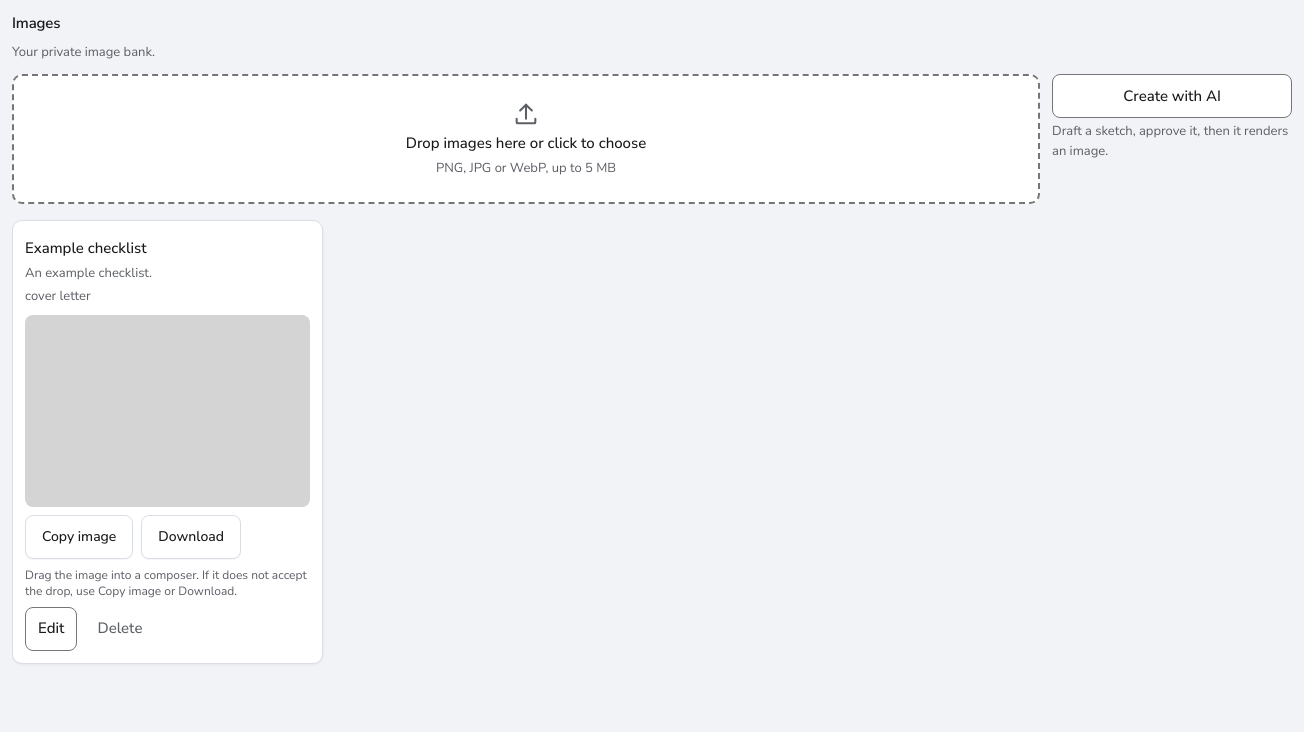
Test: editing and deleting › shows a stale-version message rather than overwriting
The width and height of the screenshot is (1304, 732).
Click the button "Edit" at [51, 628], box x1=25 y1=606 x2=78 y2=650
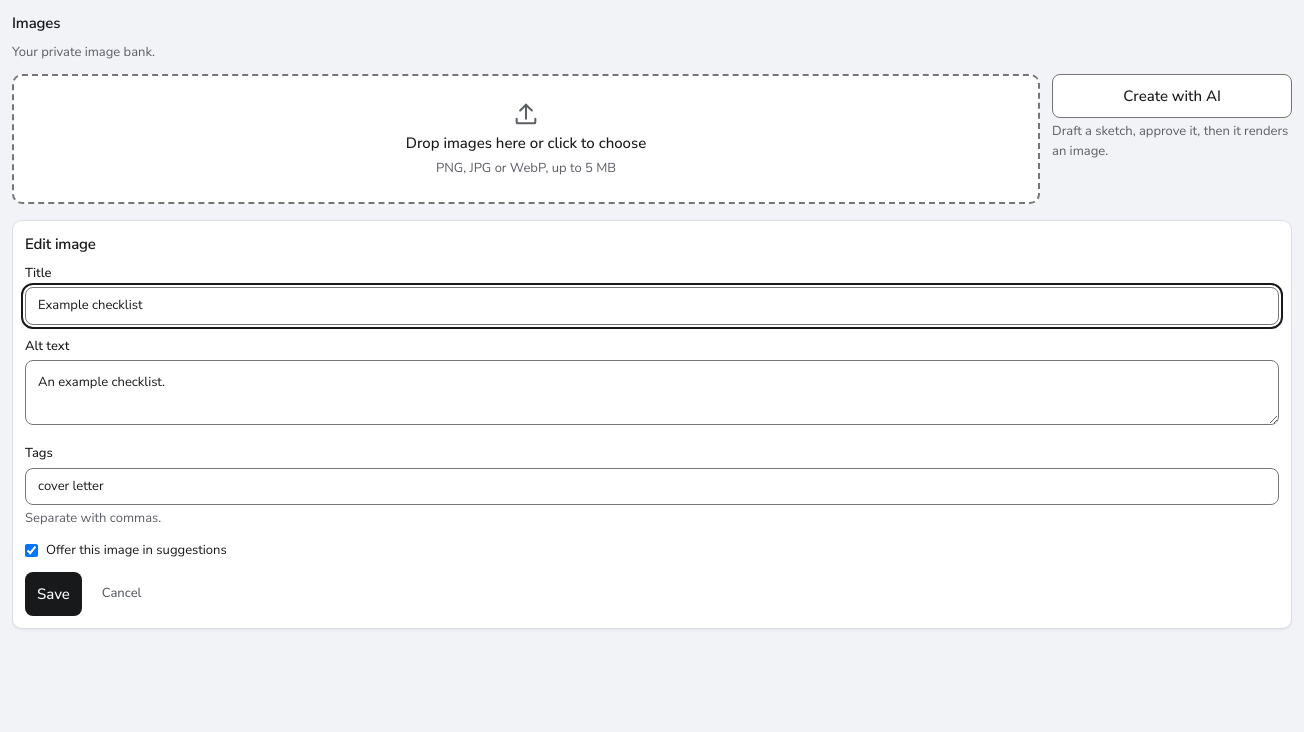
Click the button "Save" at [53, 594], box x1=25 y1=572 x2=82 y2=616
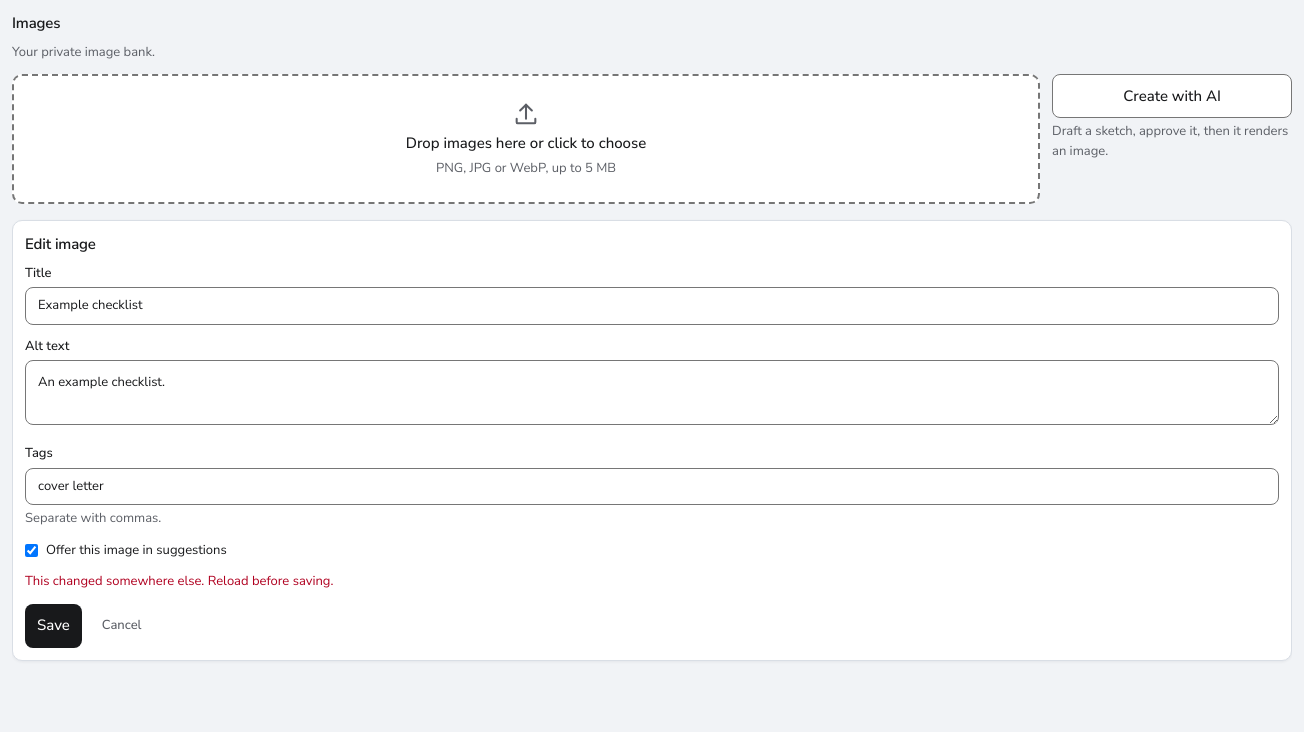
Expected: the text "This changed somewhere else. Reload before saving." is shown, x1=25 y1=572 x2=333 y2=590
